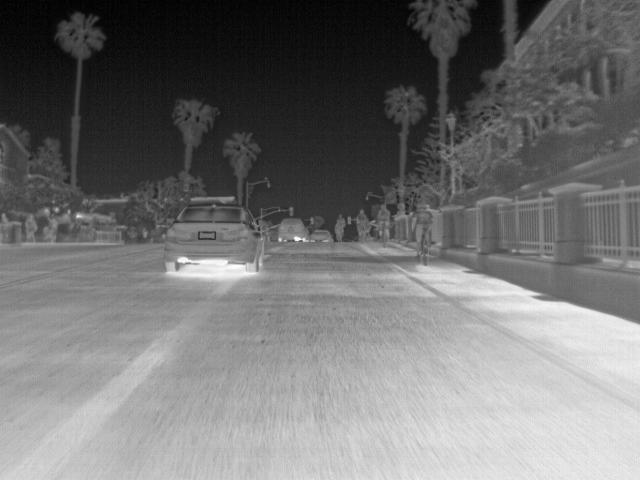car: (162, 200, 259, 274), (273, 214, 308, 244), (306, 228, 335, 244)
person: (410, 202, 437, 252), (374, 203, 392, 239), (352, 208, 369, 239), (333, 212, 349, 242), (24, 212, 37, 241)
